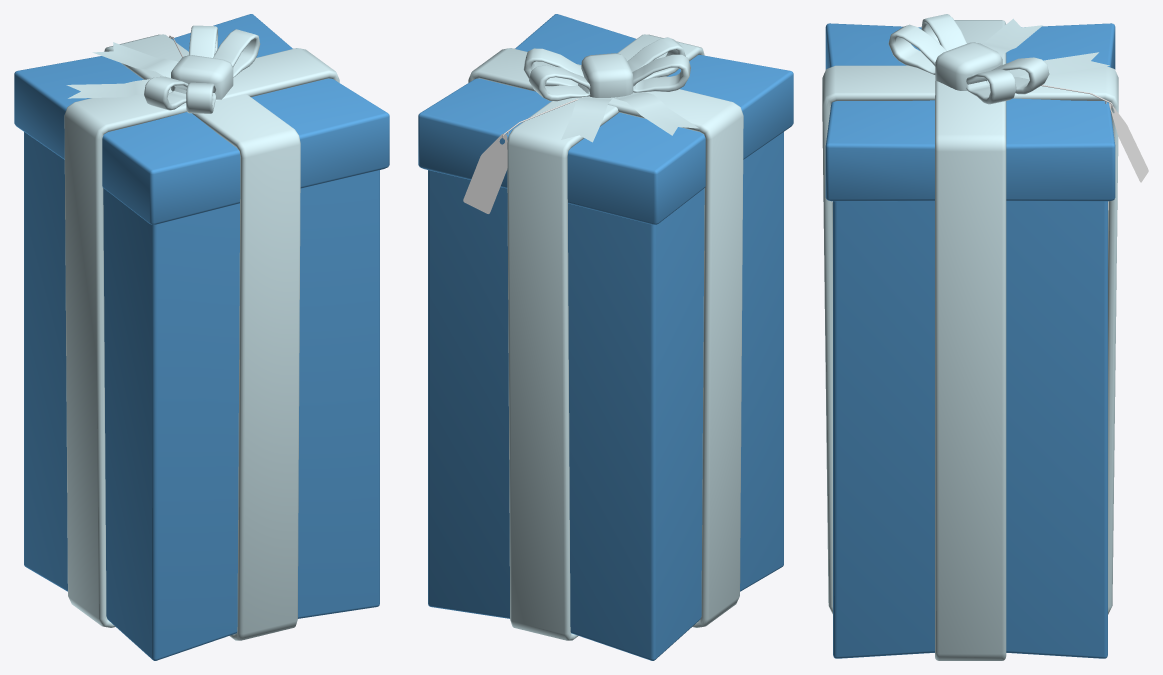
The model's file is SM_GiftBox_03.glb.
3 views of the same model, side by side, from view 1: azimuth 30°, elevation 25°; view 2: azimuth 150°, elevation 25°; view 3: azimuth 270°, elevation 25° (orthographic). The views are drawn at different scales.
Parts seen in each view (by area): view 1: SM_GiftBox_03; view 2: SM_GiftBox_03; view 3: SM_GiftBox_03.
Boxes of the visible parts, x1,y1,x2,y2 form: SM_GiftBox_03: (14,14,389,660); SM_GiftBox_03: (418,14,793,660); SM_GiftBox_03: (822,14,1148,660).
Bounding box in the file's own units: 1.02 × 2.13 × 1.13.
